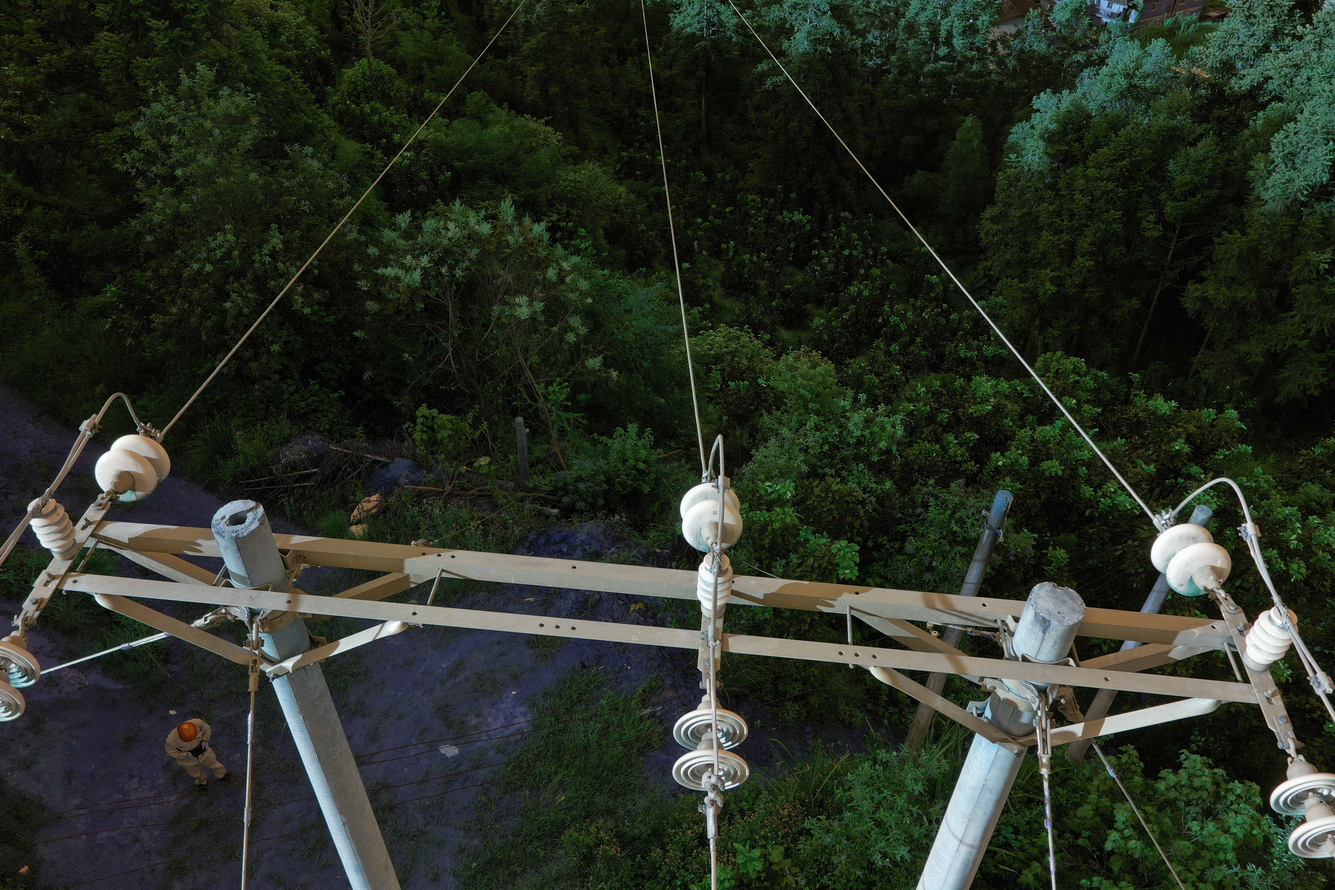severe_soiling_no_discharge_whole: (1152, 521, 1234, 601), (88, 431, 172, 506), (677, 480, 744, 552), (1, 631, 43, 721), (691, 550, 736, 619)
